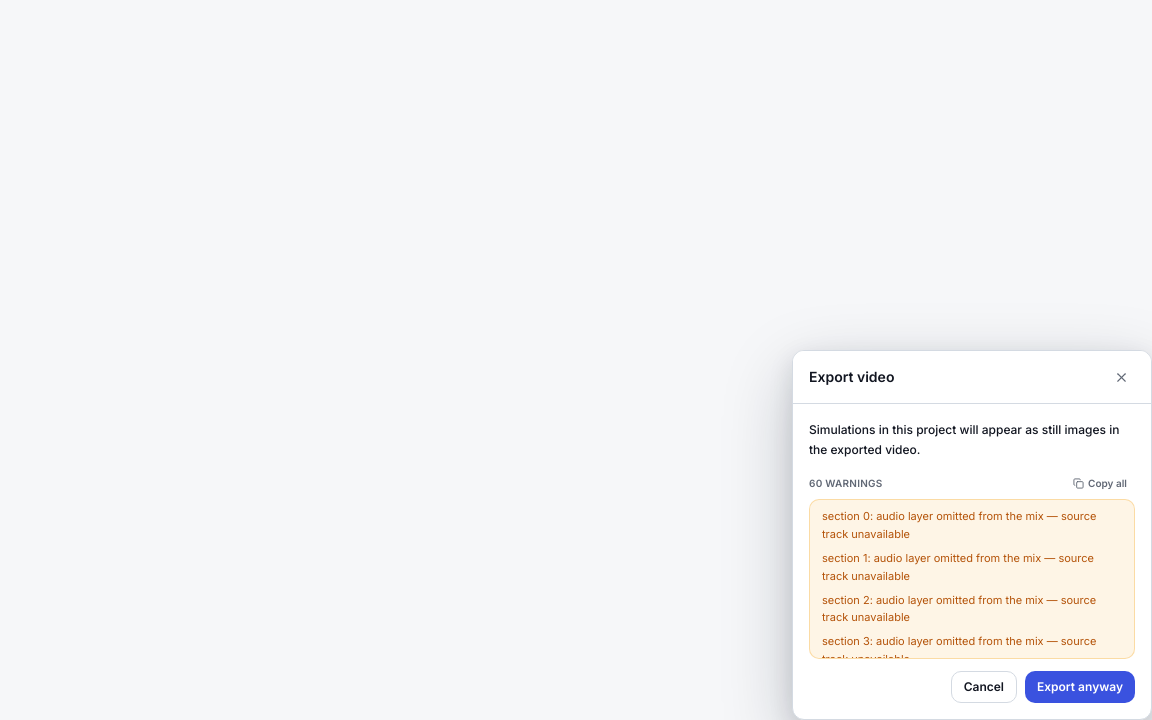
Test: consent panel with MANY warnings (rule 7 — the production overflow) › Copy all puts the COMPLETE warning text on the clipboard
(page scrolled)
Click the button "Copy all".
click(1100, 483)  # box [1065,471,1135,495]
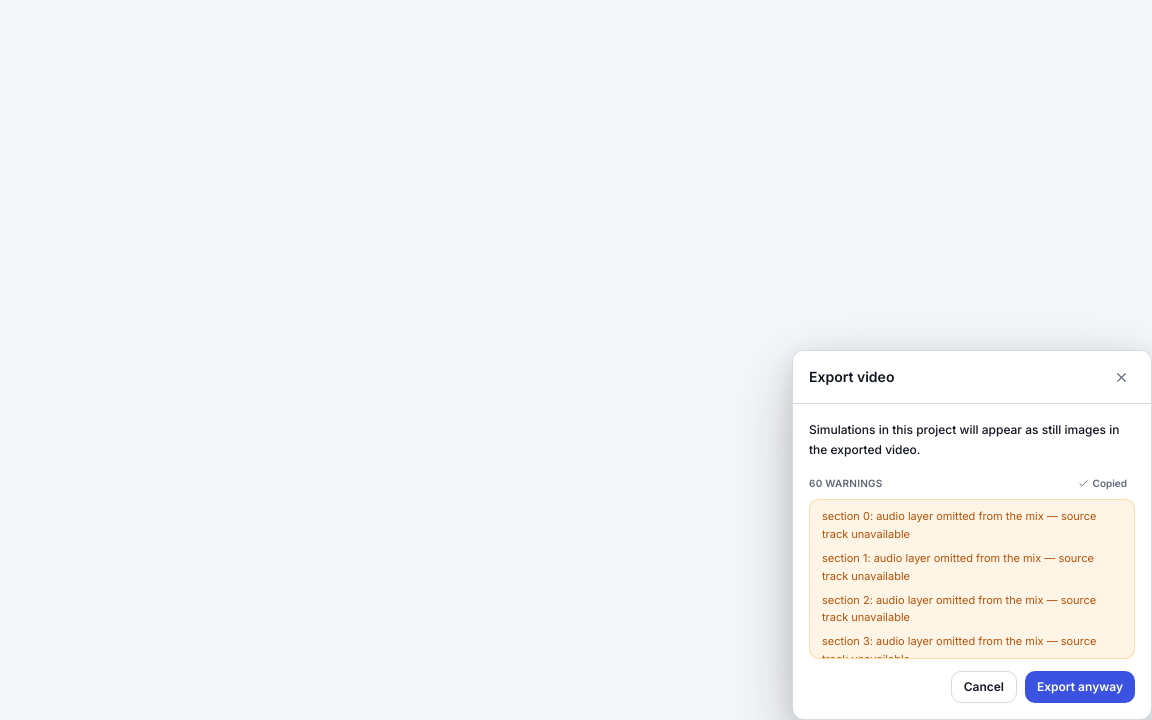
expect the button "Copied" is shown: met, box [1070,471,1135,495]
